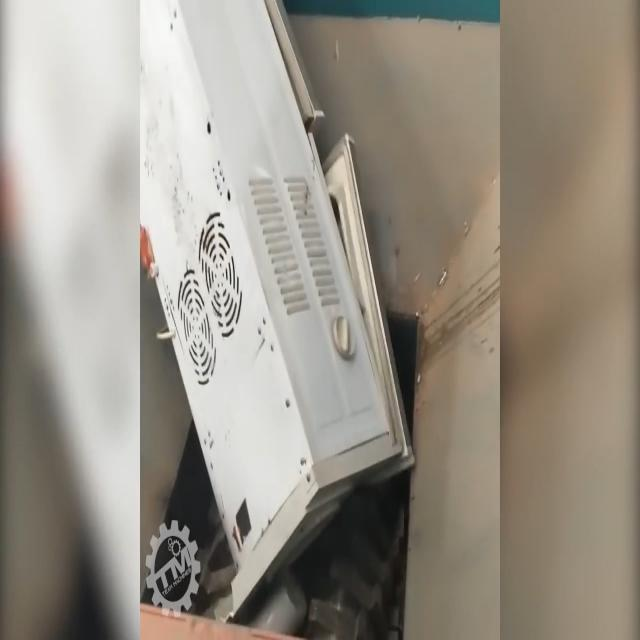Broyeur: (144, 411, 415, 640)
